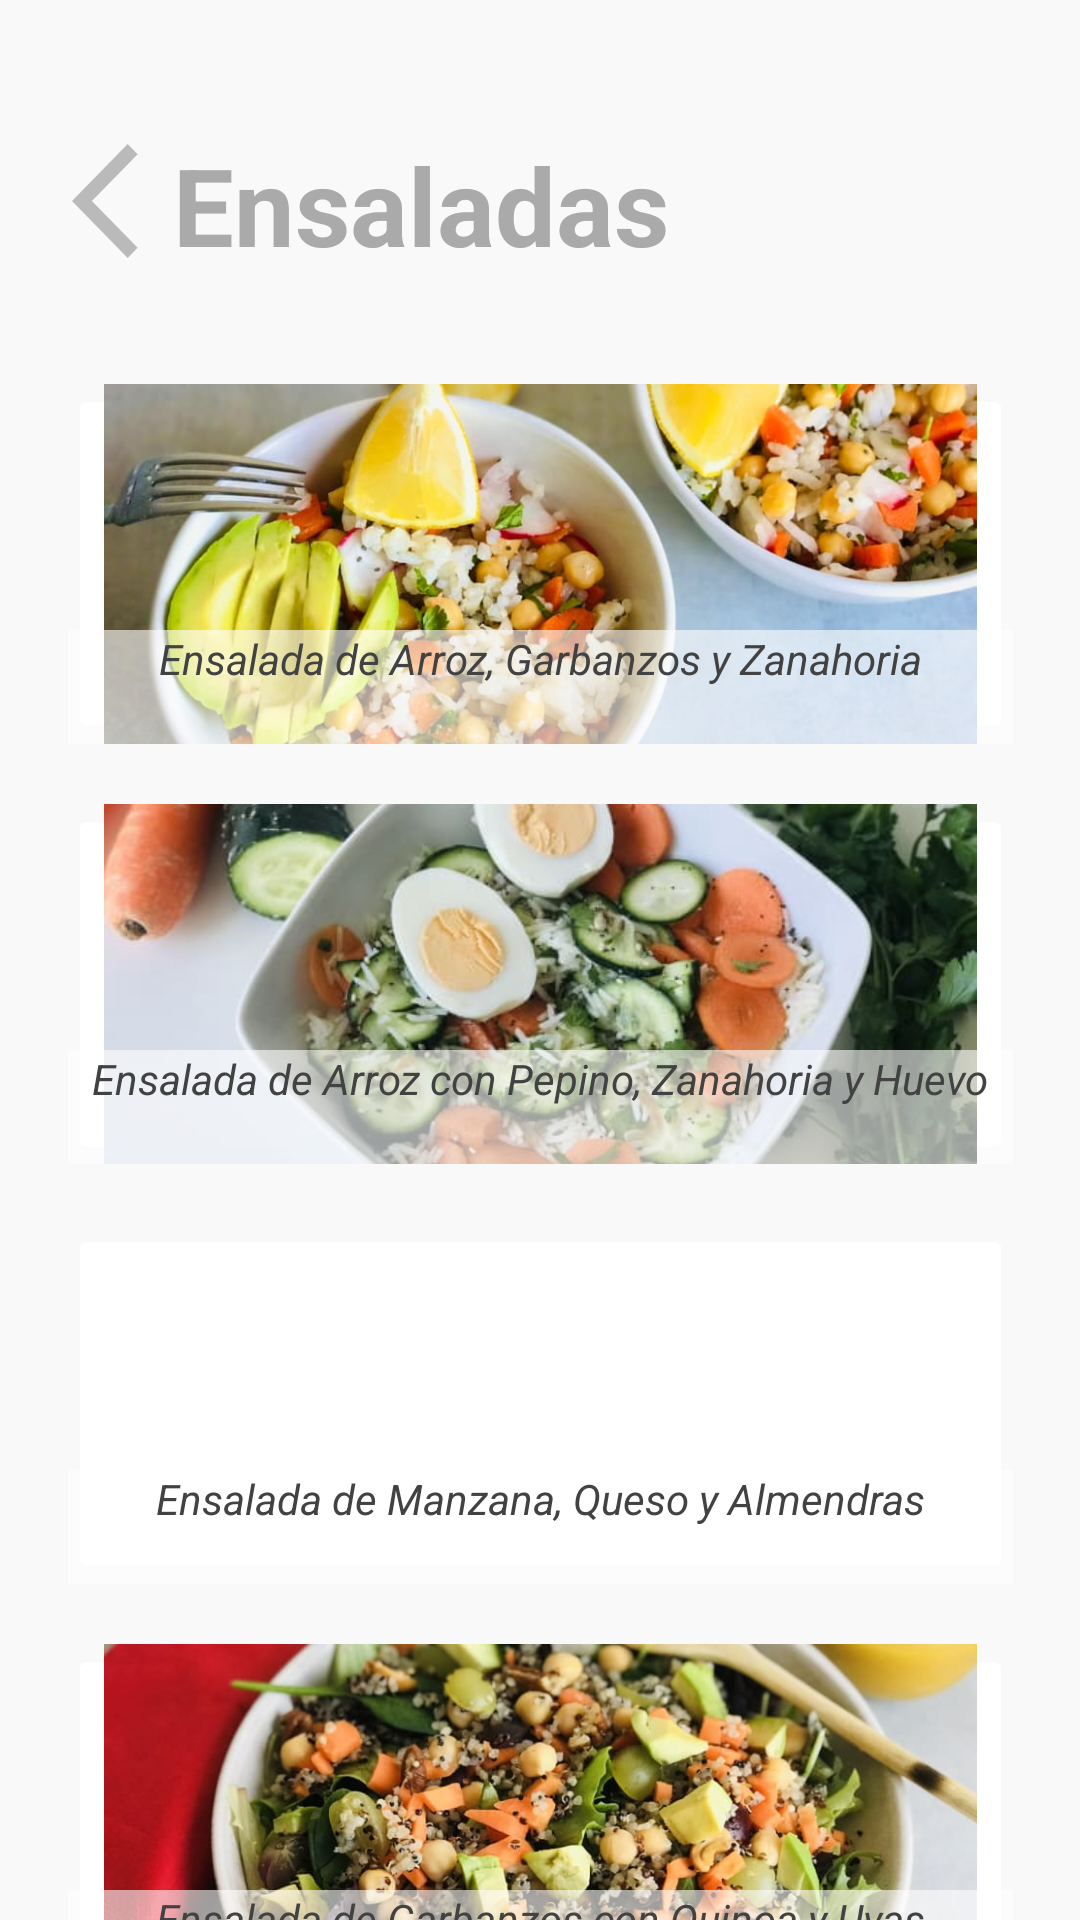

Named icons in this screenshot (1080 x 1920) and their centers, (x=x, y=y):
flecha: (x=104, y=201)
